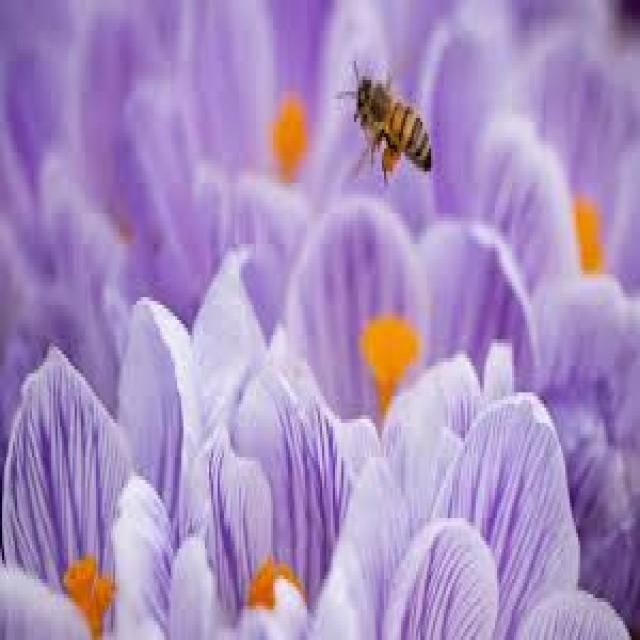Bees: (334, 57, 432, 185)
